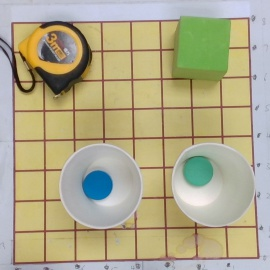cup_blue: (59, 144, 144, 233)
cup_green: (171, 142, 255, 230)
